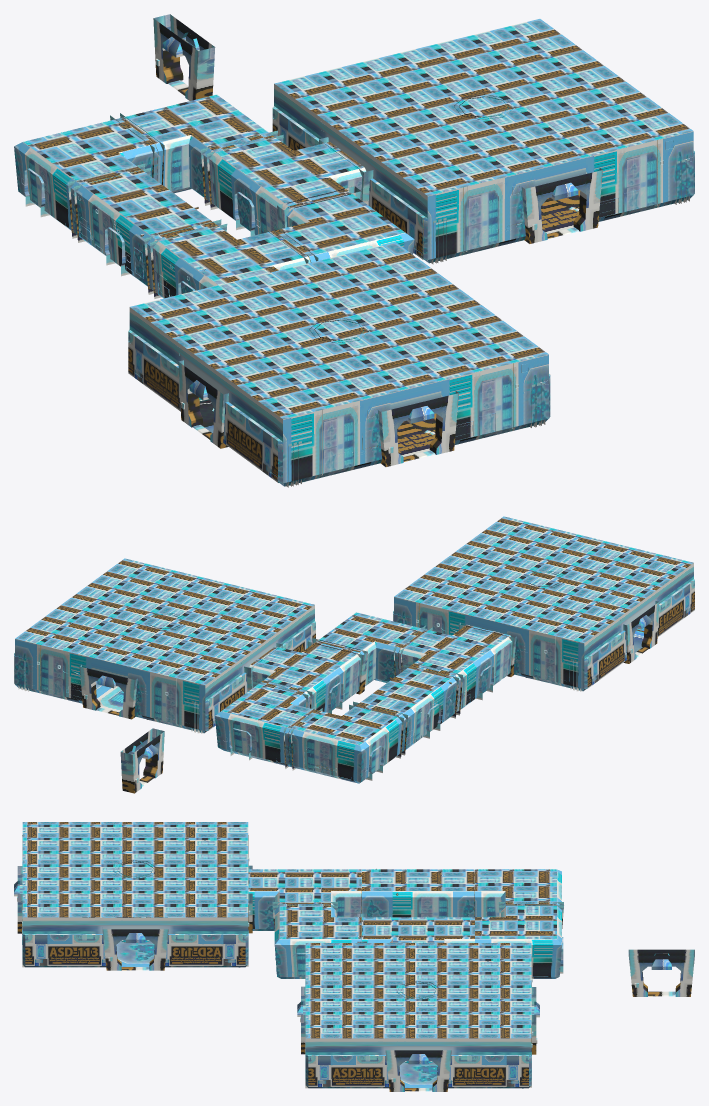
File: Combined_Mesh_root_scene__13_e7023e4f__ZombiesII_laboratory_10_a_1fa57b93_c1f257.obj
The picture shows the model from 3 angles, top to bottom: view 1: azimuth 30°, elevation 25°; view 2: azimuth 150°, elevation 25°; view 3: azimuth 270°, elevation 25°; orthographic projection. The views are drawn at different scales.
Size of the model in its own units: 93.74 by 10.34 by 121.
Materials: 592 (592 with a texture image).
